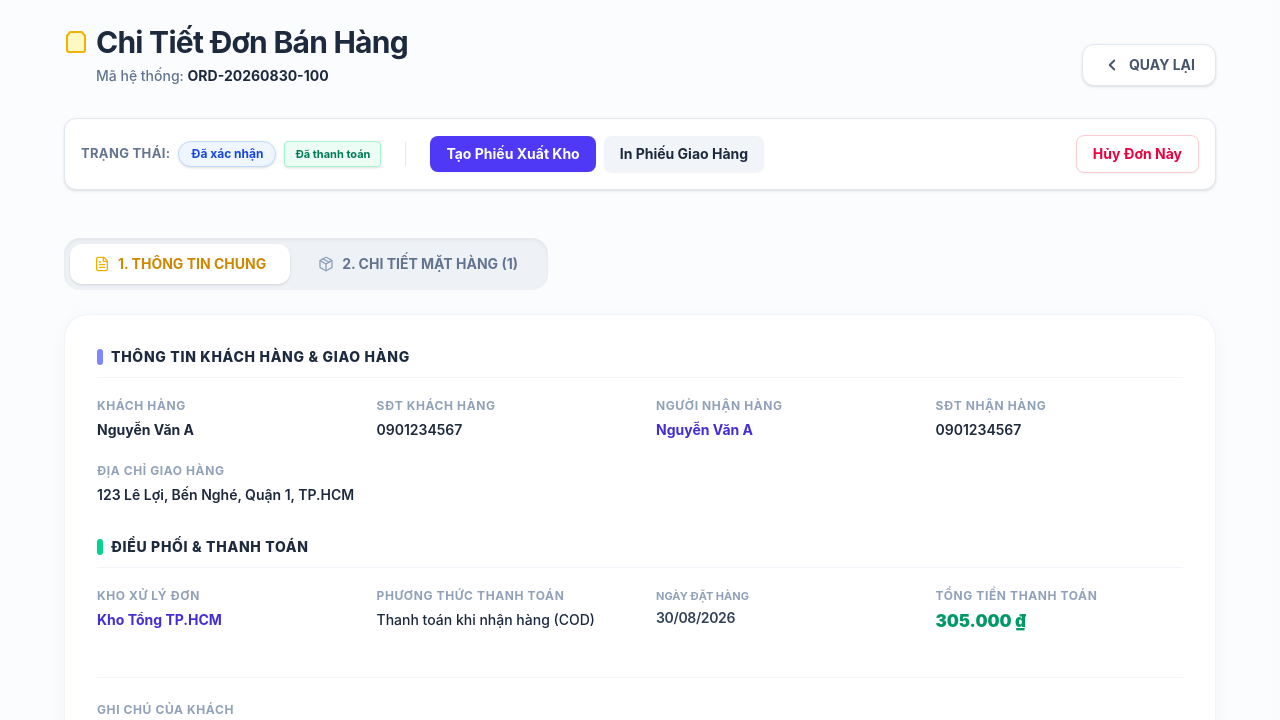
Module 13 - OrderDetail Component › TC02 - Chuyển sang tab Mặt hàng đặt mua và hiển thị đầy đủ danh sách sản phẩm
Check: the text "ORD-20260830-100" is shown, box left=188, top=67, right=329, bottom=84
Click the button "2. CHI TIẾT MẶT HÀNG (1)".
click(418, 264)  # box left=294, top=244, right=542, bottom=284
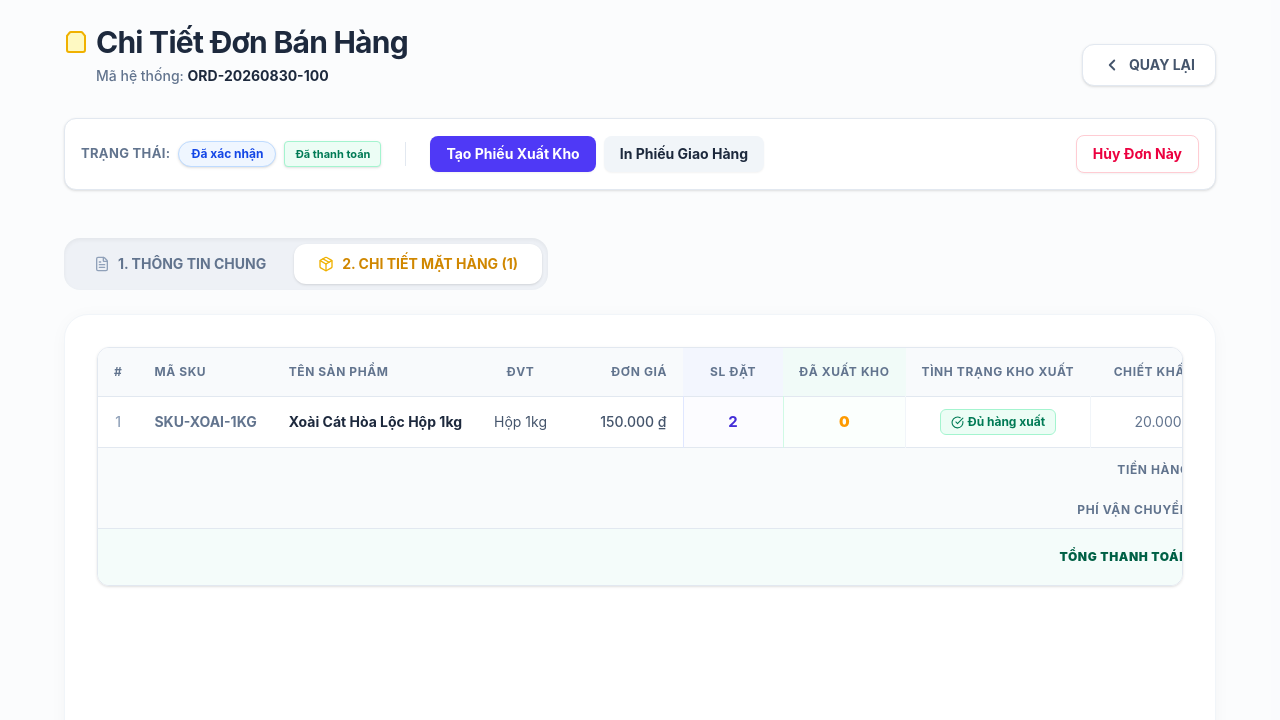
Check: the text "Xoài Cát Hòa Lộc Hộp 1kg" is shown, box left=273, top=396, right=478, bottom=448
Check: the text "SKU-XOAI-1KG" is shown, box left=138, top=396, right=273, bottom=448
